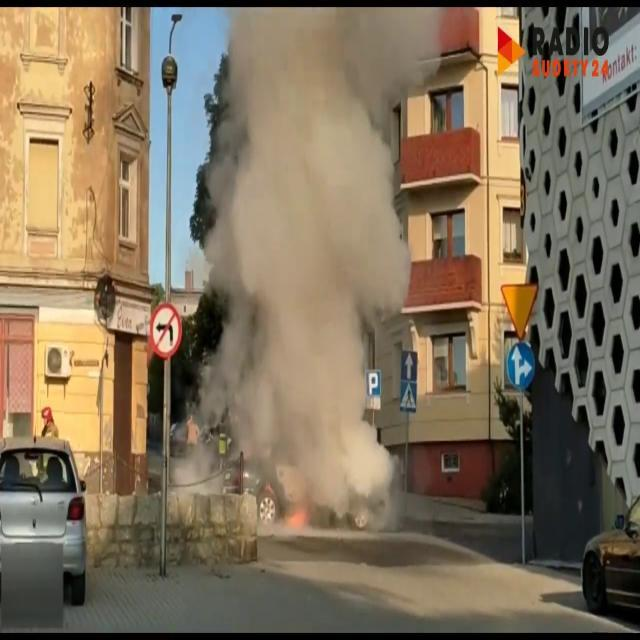Smoke: (187, 3, 426, 507)
